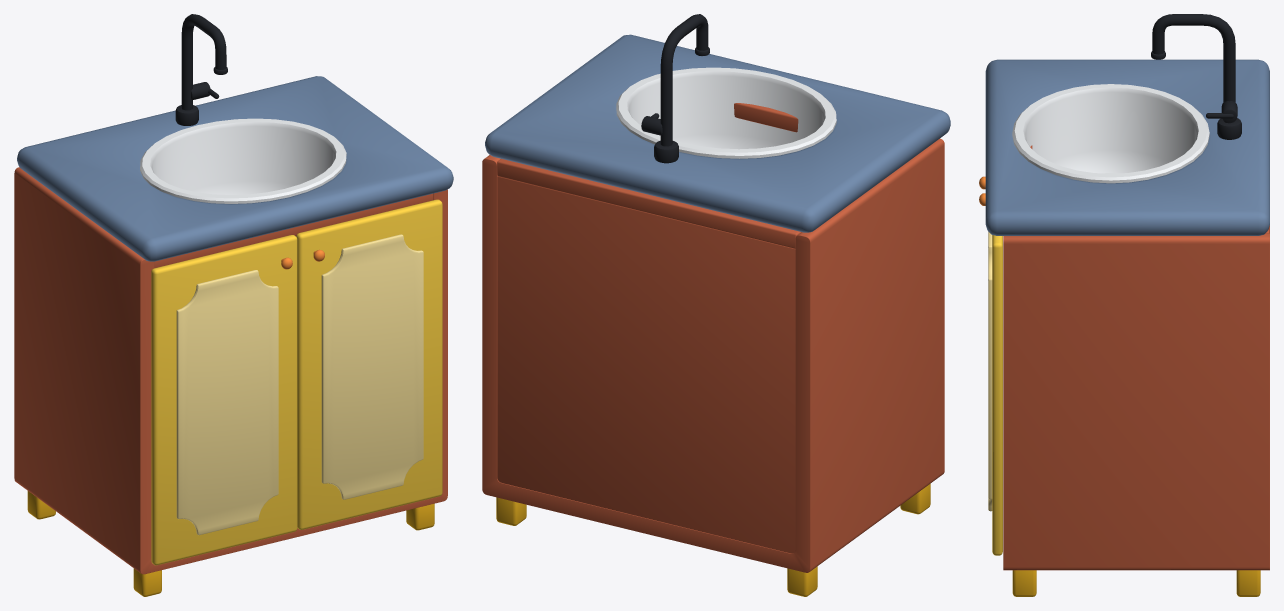
The model's file is armario_cozinha_pia_classica.glb.
3 views of the same model, side by side, from view 1: azimuth 30°, elevation 25°; view 2: azimuth 150°, elevation 25°; view 3: azimuth 270°, elevation 25° (orthographic). The views are drawn at different scales.
Visible parts, largest first — view 1: armario_cozinha_pia_classica, porta_1, porta_2; view 2: armario_cozinha_pia_classica; view 3: armario_cozinha_pia_classica, porta_2.
Part boxes in pixels (x1,y1,x2,y2): armario_cozinha_pia_classica: [14, 14, 453, 596]; porta_1: [151, 235, 297, 565]; porta_2: [296, 199, 442, 529]; armario_cozinha_pia_classica: [482, 14, 950, 596]; armario_cozinha_pia_classica: [985, 14, 1269, 596]; porta_2: [979, 193, 1002, 555].
Size of the model in its own units: 0.798 by 1.18 by 0.6131.
Materials: 1 (1 with a texture image).
